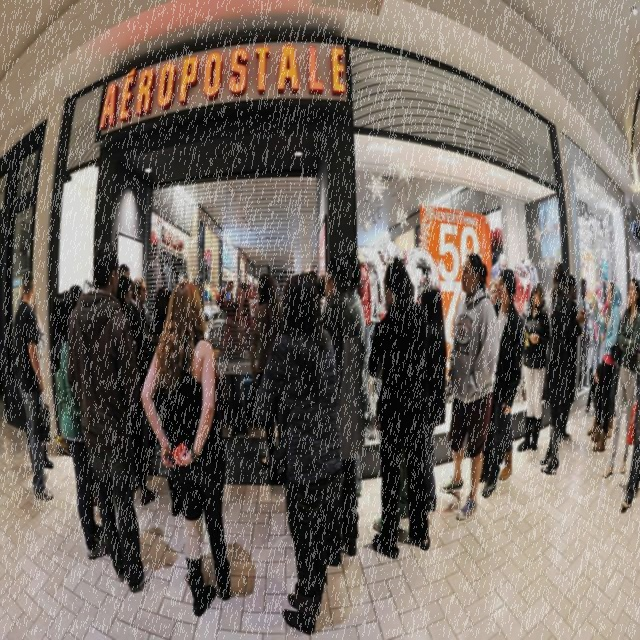pessoa: (252, 270, 346, 638), (64, 240, 154, 594), (140, 277, 232, 618), (366, 252, 432, 560), (49, 289, 114, 562), (438, 250, 501, 522), (320, 255, 366, 558), (477, 266, 527, 500), (116, 272, 159, 508), (12, 268, 54, 502), (602, 275, 640, 479), (538, 259, 573, 476), (250, 272, 284, 470), (419, 282, 448, 514), (214, 278, 254, 440), (516, 278, 552, 453), (20, 288, 54, 470), (586, 287, 624, 438), (372, 380, 408, 535), (590, 280, 622, 454), (558, 274, 586, 442), (620, 382, 640, 509), (144, 288, 172, 373), (343, 254, 368, 343), (578, 276, 590, 392), (590, 281, 604, 370), (303, 268, 326, 320), (130, 276, 150, 334), (68, 282, 85, 306), (584, 374, 594, 412), (194, 272, 204, 304), (489, 280, 499, 311), (117, 262, 132, 276), (625, 292, 630, 308)
